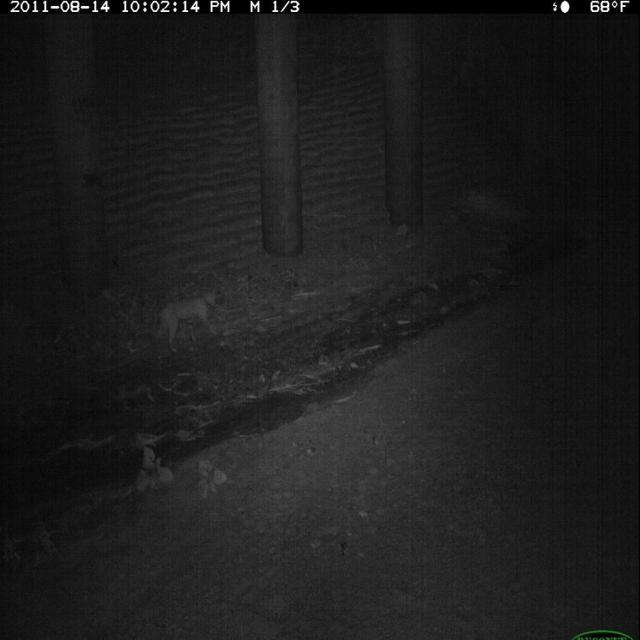bobcat: (147, 282, 224, 359)
